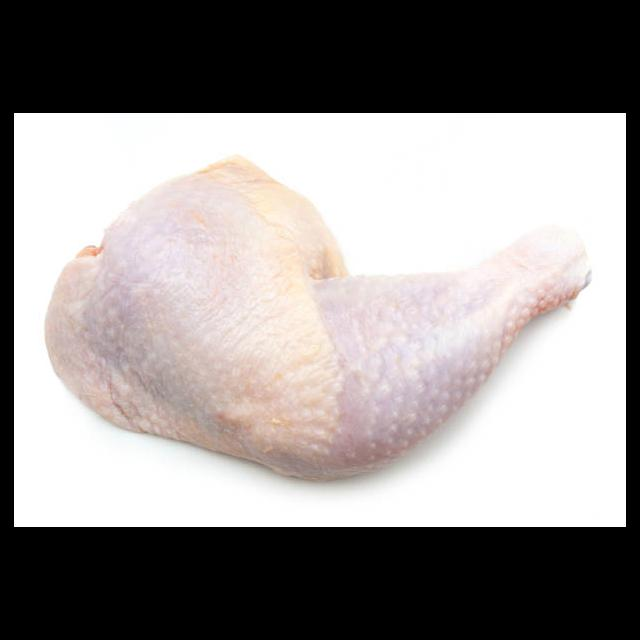chicken: (44, 157, 592, 484)
